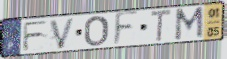F: (112, 9, 140, 48), (22, 19, 51, 53)
M: (174, 5, 205, 43)
O: (83, 15, 110, 48)
T: (150, 8, 174, 44)
V: (48, 17, 77, 51)
